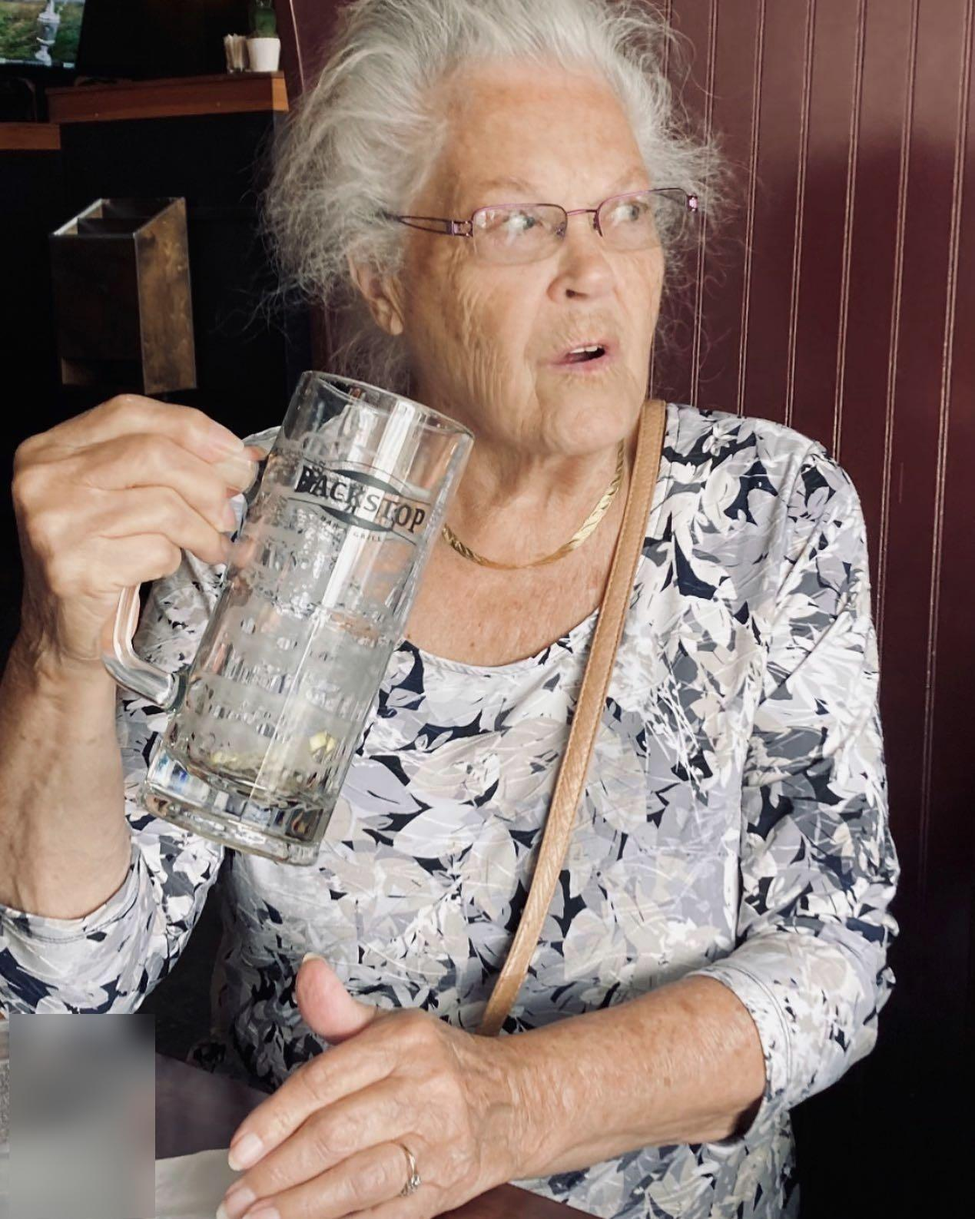glass-mug: (93, 373, 479, 870)
